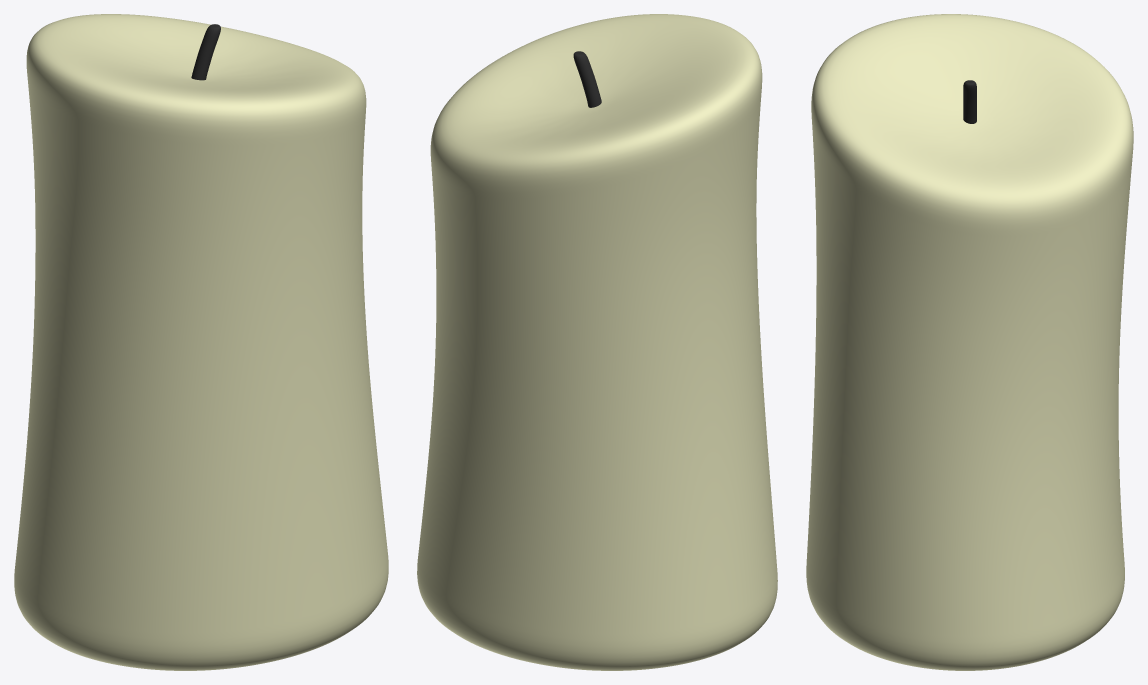
File: Candle.fbx
3 views of the same model, side by side, from view 1: azimuth 30°, elevation 25°; view 2: azimuth 150°, elevation 25°; view 3: azimuth 270°, elevation 25° (orthographic). The views are drawn at different scales.
Parts seen in each view (by area): view 1: Candle_Body, Candle_wick; view 2: Candle_Body, Candle_wick; view 3: Candle_Body, Candle_wick.
Boxes of the visible parts, <box> form: Candle_Body: <box>14,14,388,670</box>; Candle_wick: <box>191,24,220,80</box>; Candle_Body: <box>417,14,777,670</box>; Candle_wick: <box>573,51,601,107</box>; Candle_Body: <box>806,14,1133,670</box>; Candle_wick: <box>963,80,976,123</box>.
Bounding box in the file's own units: 9.83 × 16.33 × 9.07.
